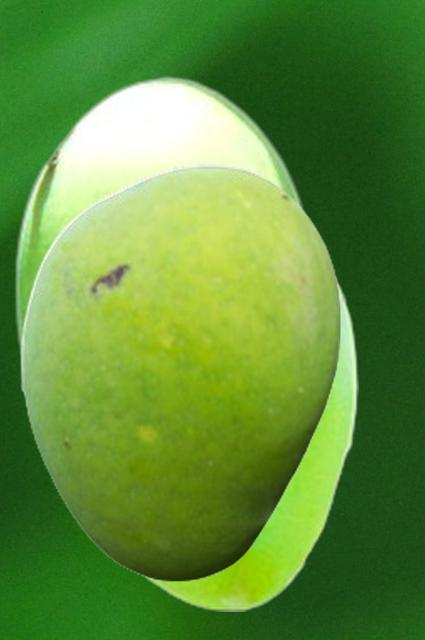green_mango: (13, 75, 309, 534), (19, 162, 340, 581), (137, 262, 357, 610)
